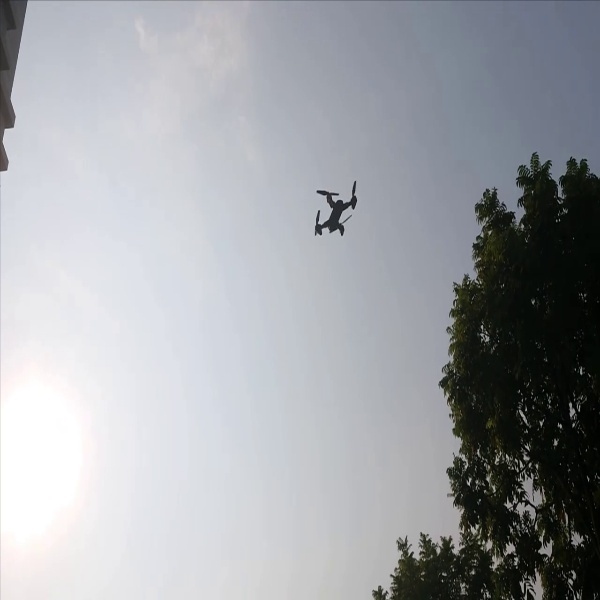drone: (301, 175, 369, 244)
